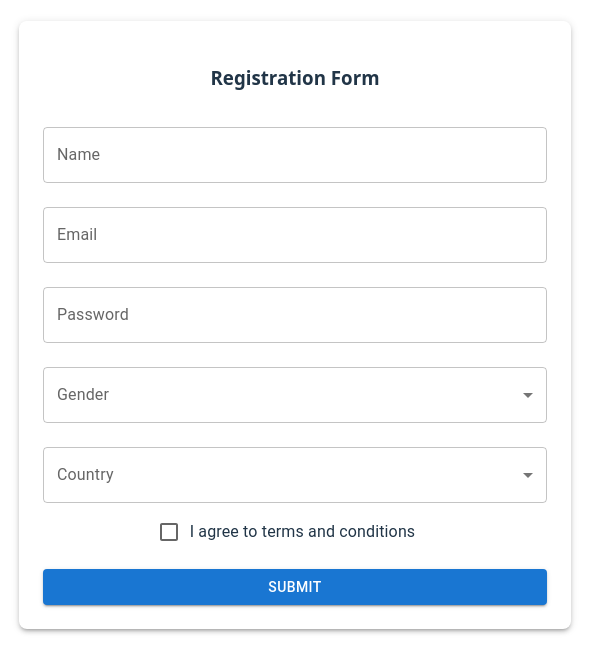
Registration Form › shows error when fields are empty
Click the button "Submit" at (295, 587), box 43,568 -> 547,605
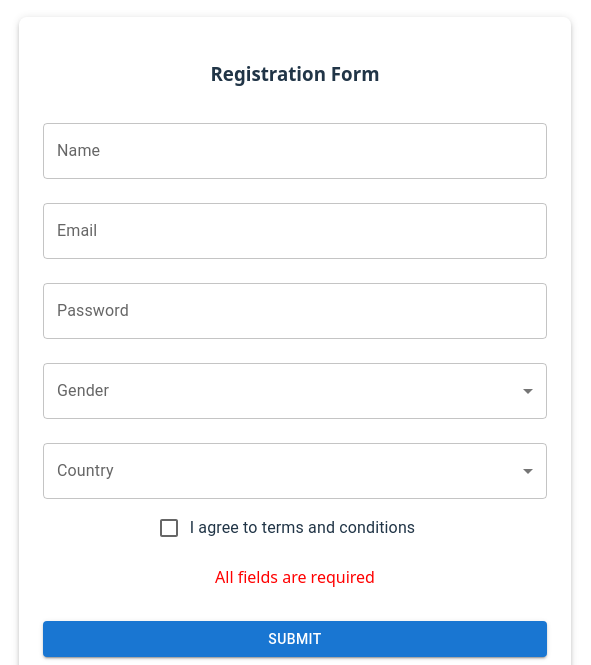
Expected: the text "All fields are required" is shown, 215,566 -> 375,588
